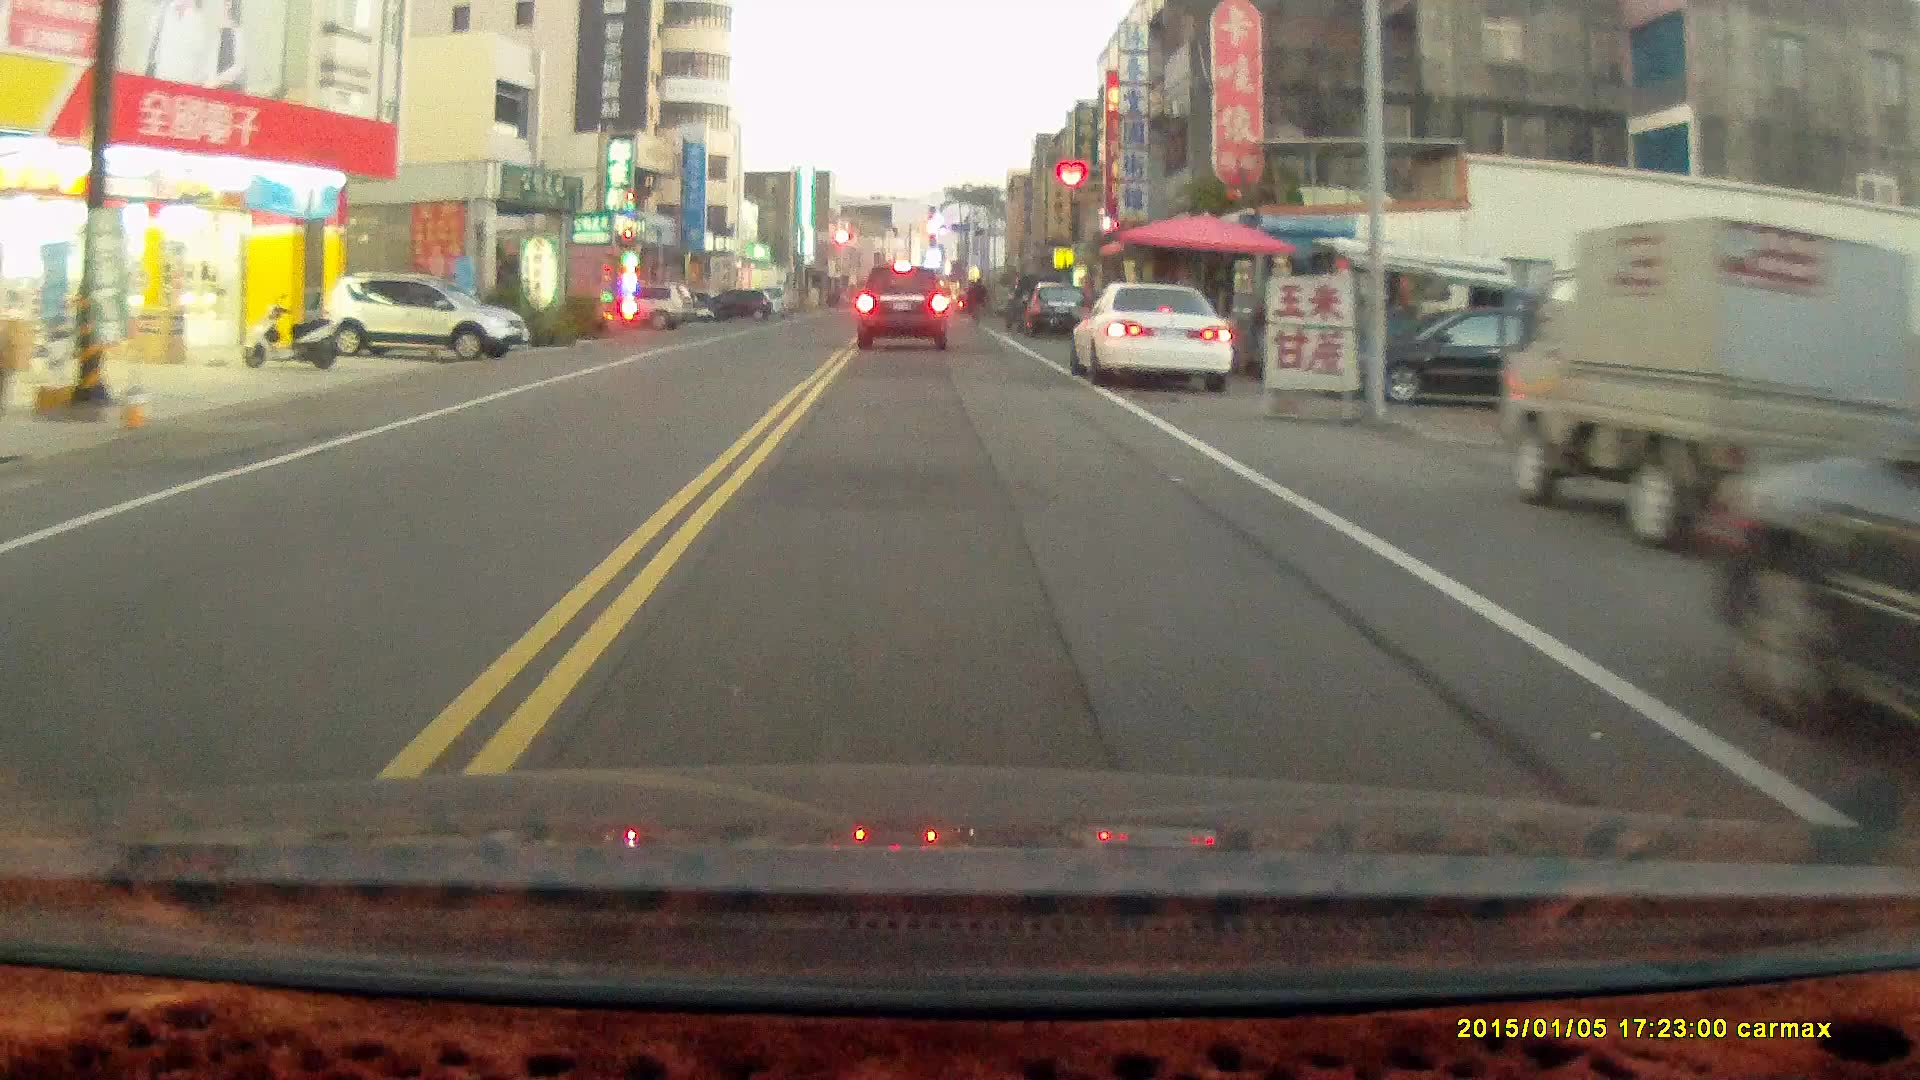rider: (965, 280, 987, 328)
vehicle: (1503, 213, 1920, 550), (1707, 348, 1920, 784), (1333, 296, 1630, 411), (313, 274, 525, 360), (1075, 284, 1237, 393), (853, 268, 953, 354)
